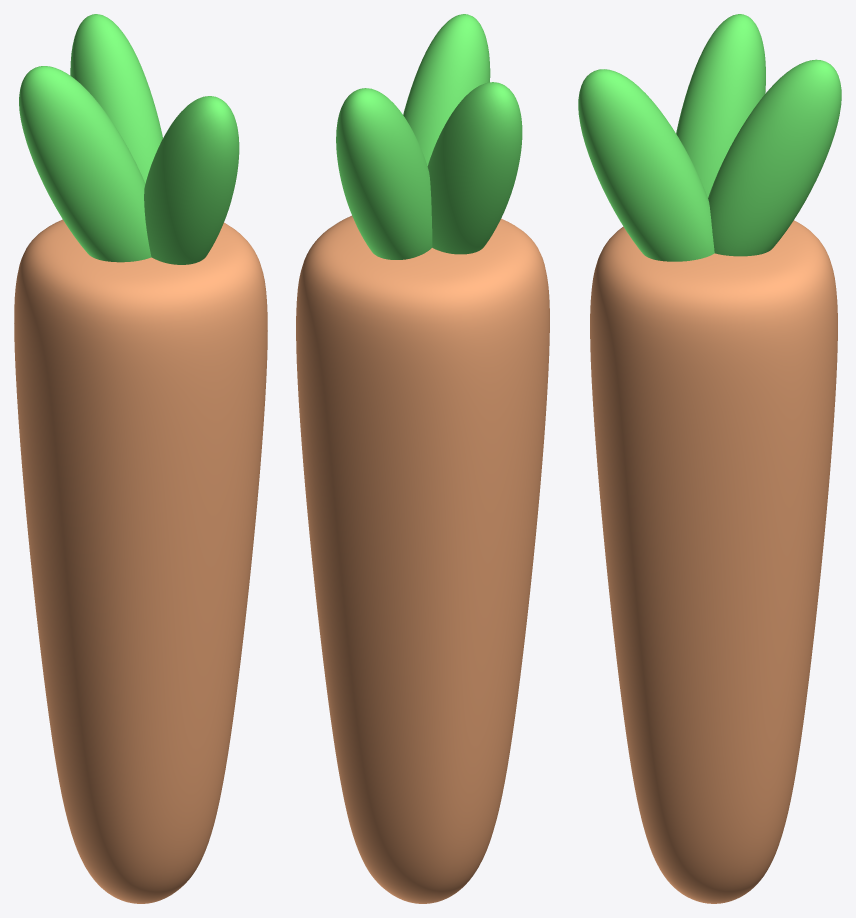
Rendered from karotte.glb.
3 views of the same model, side by side, from view 1: azimuth 30°, elevation 25°; view 2: azimuth 150°, elevation 25°; view 3: azimuth 270°, elevation 25° (orthographic).
Visible parts, largest first — view 1: Karotte; view 2: Karotte; view 3: Karotte.
Boxes of the visible parts, <box> form: Karotte: <box>14,14,267,903</box>; Karotte: <box>296,14,549,903</box>; Karotte: <box>578,14,841,903</box>.
Size of the model in its own units: 1.66 by 6.21 by 1.76.
